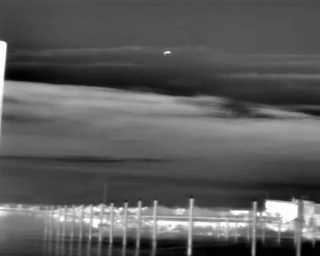BIRD: (161, 48, 173, 59)
